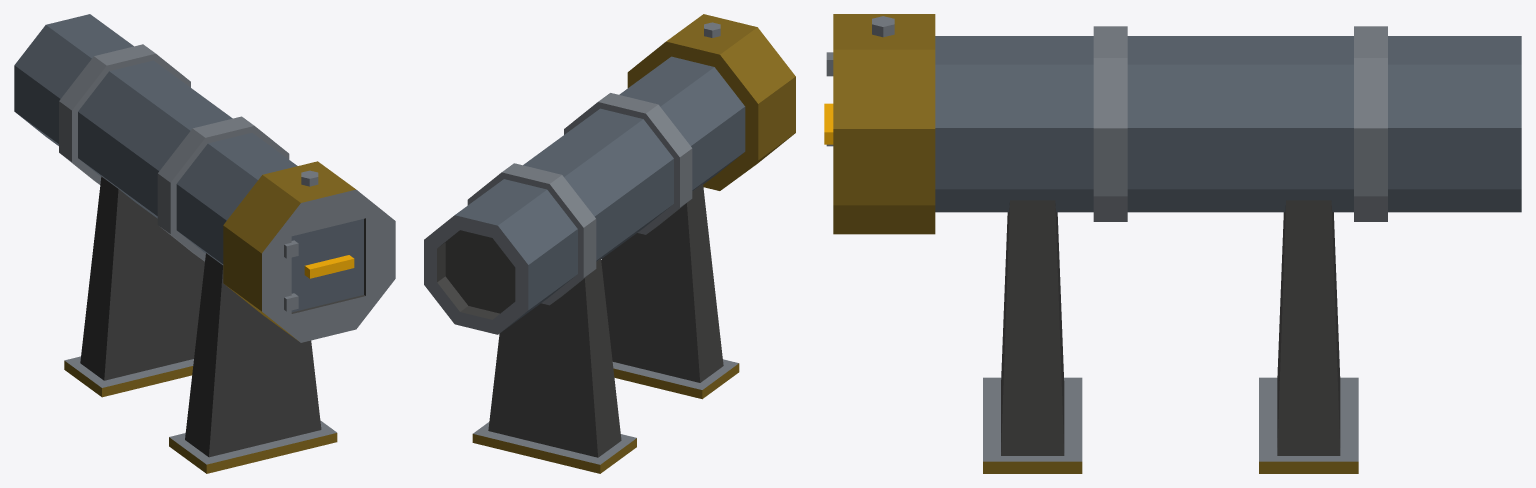
Rendered from missile_tube.glb.
The picture shows the model from 3 angles, left to right: view 1: azimuth 30°, elevation 25°; view 2: azimuth 150°, elevation 25°; view 3: azimuth 270°, elevation 25°; orthographic projection. The views are drawn at different scales.
Visible parts, largest first — view 1: missile_tube; view 2: missile_tube; view 3: missile_tube.
Boxes of the visible parts, x1=… form: missile_tube: x1=14, y1=14, x2=395, y2=473; missile_tube: x1=424, y1=14, x2=795, y2=473; missile_tube: x1=824, y1=14, x2=1521, y2=473.
Size of the model in its own units: 0.9 by 2 by 3.08.
